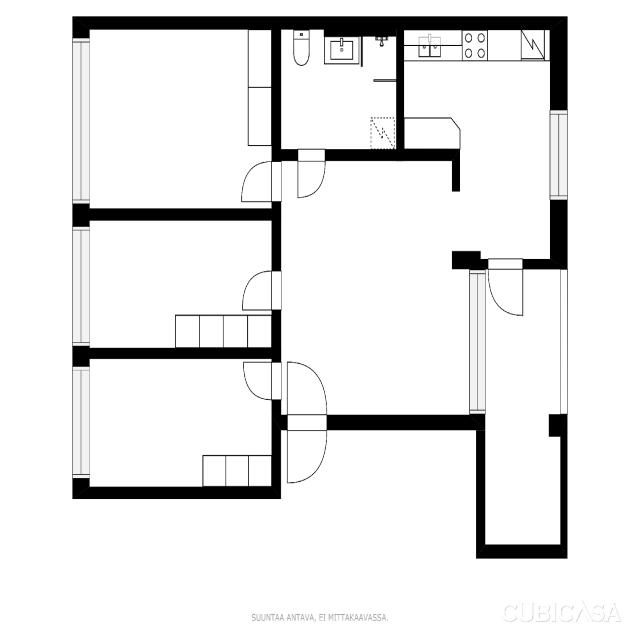door: (282, 353, 333, 487), (484, 258, 529, 320), (236, 264, 284, 318), (237, 354, 282, 403), (235, 157, 279, 204), (294, 148, 329, 201), (290, 34, 312, 71)
window: (68, 34, 98, 213), (69, 215, 93, 356), (544, 101, 574, 211), (69, 354, 93, 487)
zone: (400, 27, 560, 266), (78, 22, 278, 213), (79, 218, 280, 354), (81, 354, 277, 493), (276, 30, 400, 156)
